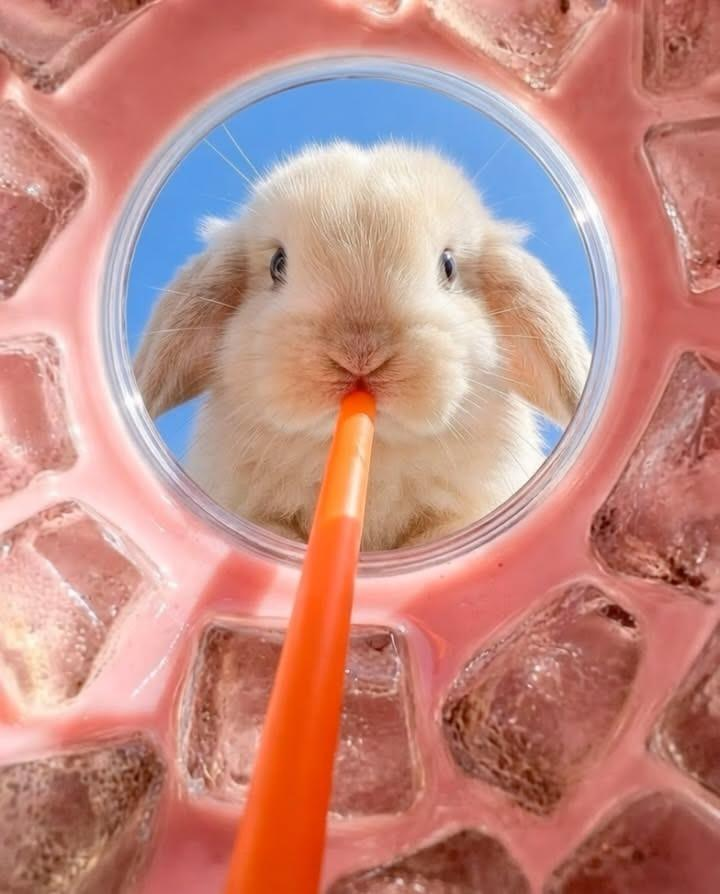non-dog: (128, 136, 596, 555)
